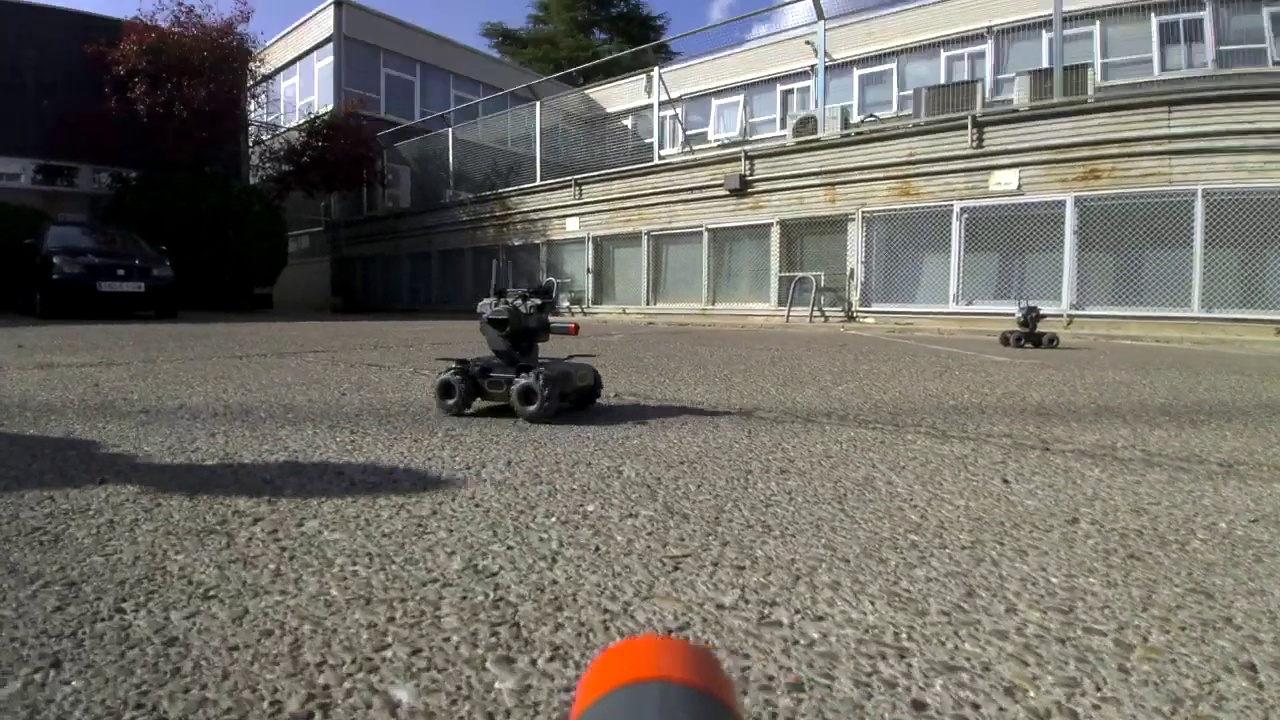robot: (436, 257, 603, 420), (1001, 288, 1062, 352)
